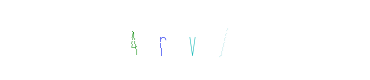4: (97, 0, 177, 80)
J: (145, 0, 225, 80)
R: (121, 0, 201, 80)
V: (142, 0, 222, 80)
